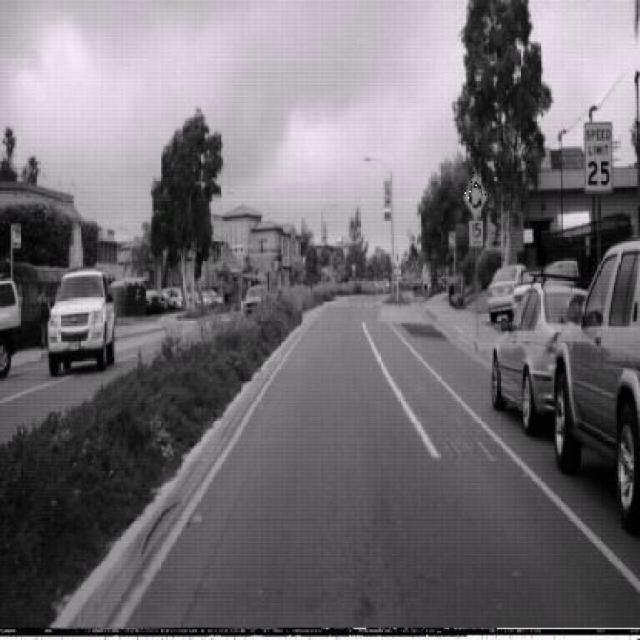roundabout: (462, 170, 488, 220)
speedLimit25: (583, 120, 614, 194)
